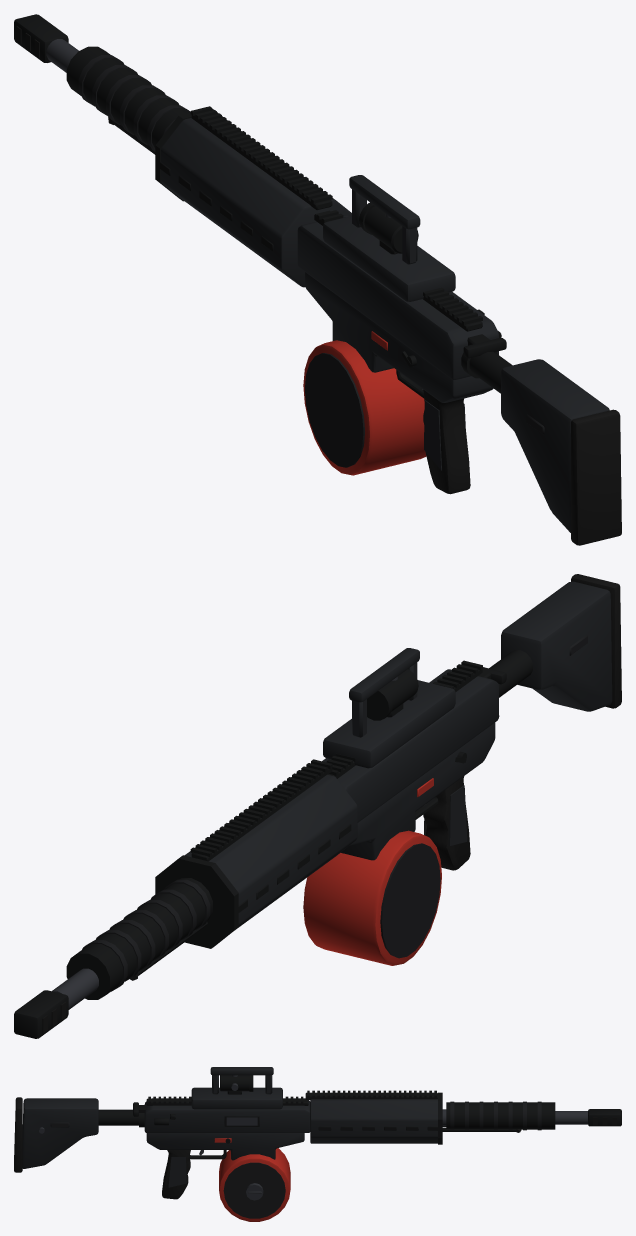
The model's file is gun_26.glb.
The picture shows the model from 3 angles, top to bottom: view 1: azimuth 30°, elevation 25°; view 2: azimuth 150°, elevation 25°; view 3: azimuth 270°, elevation 25°; orthographic projection. The views are drawn at different scales.
Visible parts, largest first — view 1: gun_26; view 2: gun_26; view 3: gun_26.
Boxes of the visible parts, left/top/right/bottom form: gun_26: left=14, top=14, right=621, bottom=545; gun_26: left=14, top=574, right=621, bottom=1038; gun_26: left=14, top=1067, right=621, bottom=1221.
Bounding box in the file's own units: 0.1078 × 0.3303 × 1.25.
